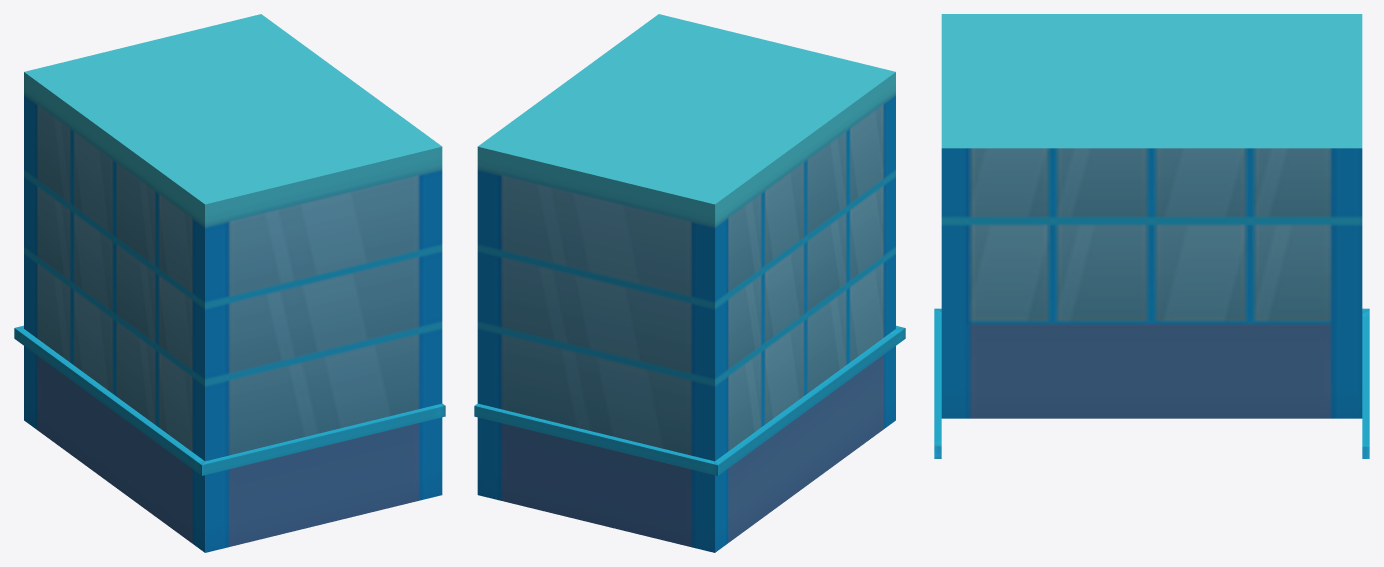
Rendered from Common_Building_06.fbx.
The picture shows the model from 3 angles, left to right: view 1: azimuth 30°, elevation 25°; view 2: azimuth 150°, elevation 25°; view 3: azimuth 270°, elevation 25°; orthographic projection. The views are drawn at different scales.
Visible parts, largest first — view 1: Common_Building_06; view 2: Common_Building_06; view 3: Common_Building_06.
Boxes of the visible parts, left/top/right/bottom form: Common_Building_06: left=14, top=14, right=445, bottom=552; Common_Building_06: left=474, top=14, right=905, bottom=552; Common_Building_06: left=934, top=14, right=1369, bottom=458.
Size of the model in its own units: 3000 by 4100 by 4000.
